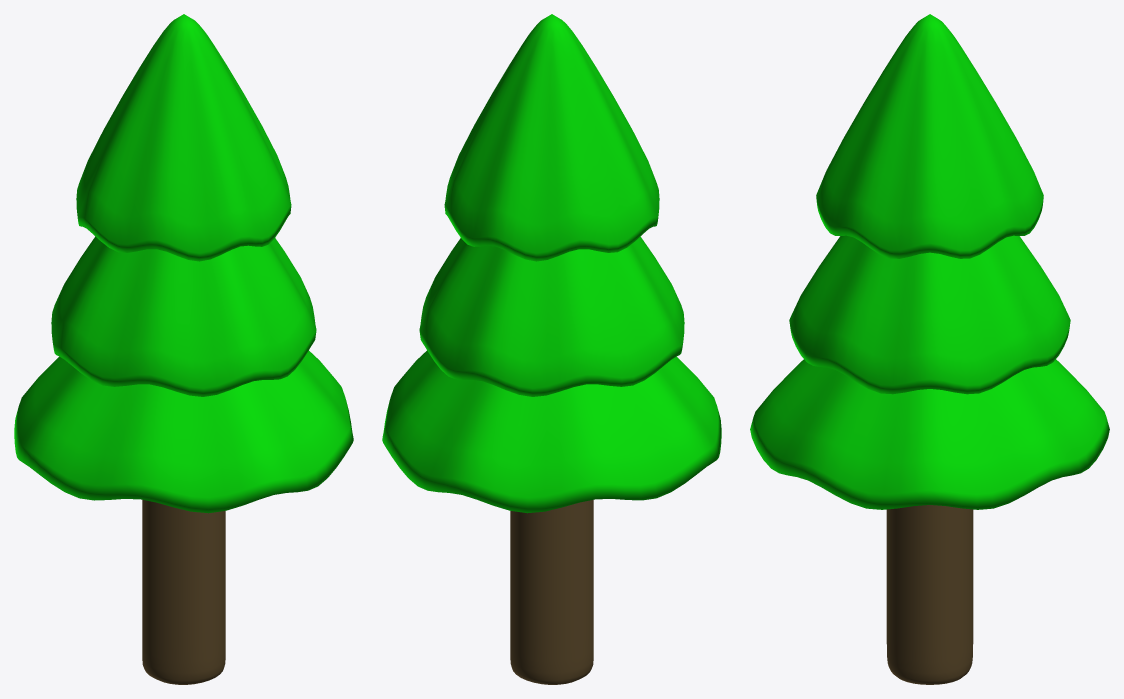
File: TreeLOD0.fbx
3 renders of one model, left to right at view 1: azimuth 30°, elevation 25°; view 2: azimuth 150°, elevation 25°; view 3: azimuth 270°, elevation 25°, orthographic.
Parts seen in each view (by area): view 1: HojasLOD0, troncoLOD0; view 2: HojasLOD0, troncoLOD0; view 3: HojasLOD0, troncoLOD0.
Boxes of the visible parts, box(x1,y1,x2,y2) form: HojasLOD0: box(14, 14, 353, 513); troncoLOD0: box(142, 500, 225, 684); HojasLOD0: box(382, 14, 721, 513); troncoLOD0: box(510, 500, 593, 684); HojasLOD0: box(750, 14, 1109, 509); troncoLOD0: box(886, 505, 973, 684).
Size of the model in its own units: 288 by 586 by 290.
